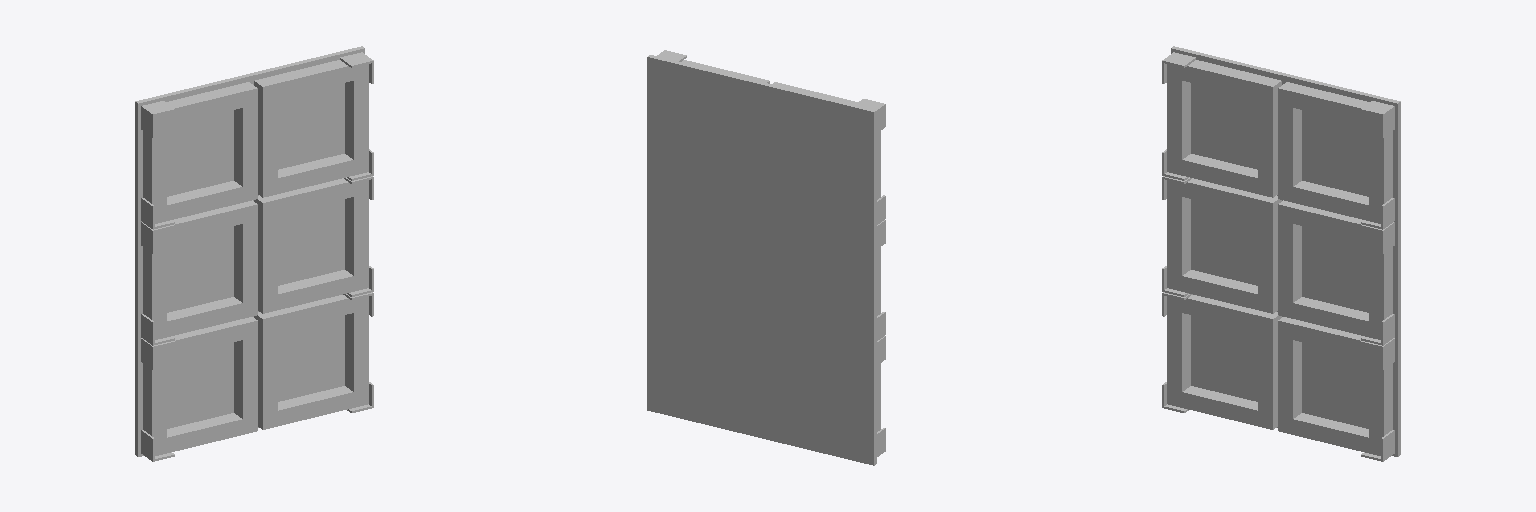
Rendered from Zielscheibe.obj.
3 renders of one model, left to right at view 1: azimuth 30°, elevation 25°; view 2: azimuth 150°, elevation 25°; view 3: azimuth 330°, elevation 25°, orthographic.
Parts seen in each view (by area): view 1: Body_73, Body_06_(1), Body_06_(2), Body_06_(3)_(2), Body_06_(3), Body_05_(3)_(2), Body_07_(2)_(3), Body_05_(2)_(2), Body_07_(1), Body_05_(3), Body_07_(2)_(2), Body_07_(3) (+14 smaller); view 2: Body_73; view 3: Body_73, Body_06_(1), Body_07_(3), Body_07_(2), Body_07_(3)_(2), Body_05_(2), Body_05_(1), Body_05_(2)_(3), Body_06_(3)_(2), Body_04_(1), Body_06_(2), Body_04_(2) (+14 smaller).
Part boxes in pixels (bbox=[...]): Body_73: bbox=[135, 46, 364, 456]; Body_06_(1): bbox=[166, 82, 257, 125]; Body_06_(2): bbox=[258, 386, 353, 429]; Body_06_(3)_(2): bbox=[258, 270, 353, 313]; Body_06_(3): bbox=[258, 154, 353, 197]; Body_05_(3)_(2): bbox=[345, 77, 368, 175]; Body_07_(2)_(3): bbox=[234, 220, 257, 318]; Body_05_(2)_(2): bbox=[345, 309, 368, 407]; Body_07_(1): bbox=[234, 104, 257, 202]; Body_05_(3): bbox=[345, 193, 368, 291]; Body_07_(2)_(2): bbox=[234, 336, 257, 434]; Body_07_(3): bbox=[254, 77, 277, 181]; Body_73: bbox=[647, 55, 876, 465]; Body_73: bbox=[1171, 46, 1400, 456]; Body_06_(1): bbox=[1182, 60, 1281, 102]; Body_07_(3): bbox=[1278, 82, 1301, 186]; Body_07_(2): bbox=[1278, 317, 1301, 418]; Body_07_(3)_(2): bbox=[1278, 200, 1301, 302]; Body_05_(2): bbox=[1167, 296, 1190, 391]; Body_05_(1): bbox=[1167, 64, 1190, 159]; Body_05_(2)_(3): bbox=[1167, 180, 1190, 275]; Body_06_(3)_(2): bbox=[1278, 297, 1368, 336]; Body_04_(1): bbox=[1167, 154, 1257, 193]; Body_06_(2): bbox=[1278, 413, 1368, 452]; Body_04_(2): bbox=[1167, 270, 1257, 309].
Size of the model in its own units: 0.45 by 0.67 by 0.05.